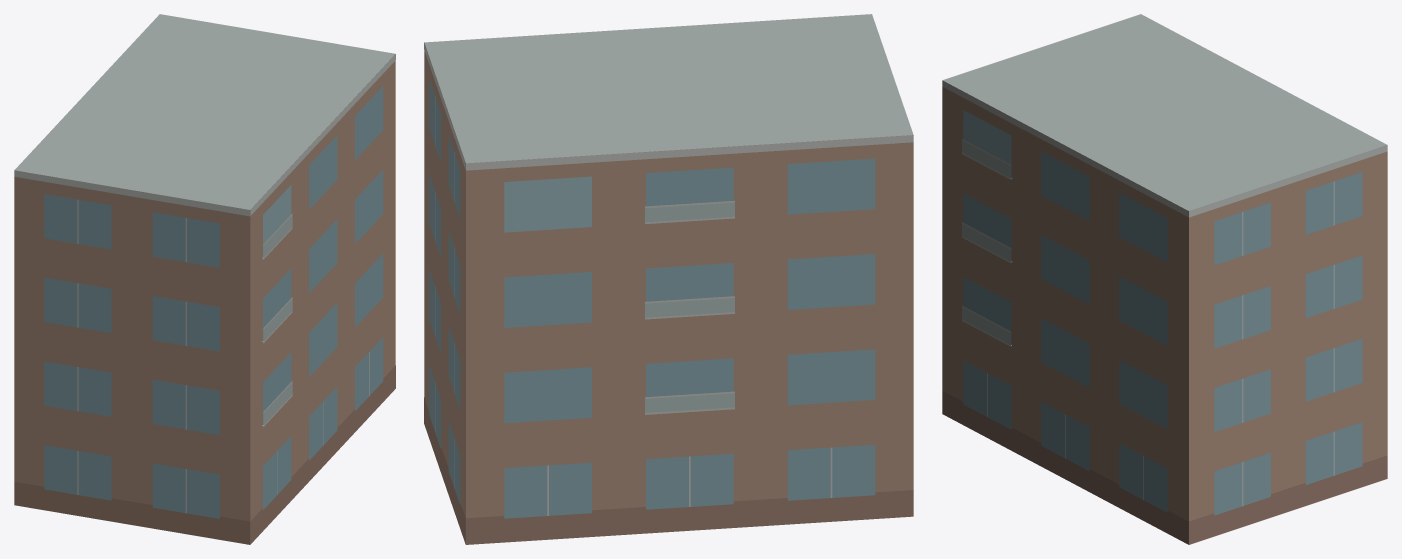
Rendered from survey-upis-32777927.glb.
The picture shows the model from 3 angles, left to right: view 1: azimuth 30°, elevation 25°; view 2: azimuth 150°, elevation 25°; view 3: azimuth 270°, elevation 25°; orthographic projection. The views are drawn at different scales.
Visible parts, largest first — view 1: survey-upis-32777927.tmp; view 2: survey-upis-32777927.tmp; view 3: survey-upis-32777927.tmp.
Part boxes in pixels (x1,y1,x2,y2): survey-upis-32777927.tmp: [14, 14, 395, 544]; survey-upis-32777927.tmp: [424, 14, 913, 544]; survey-upis-32777927.tmp: [942, 14, 1387, 544].
Bounding box in the file's own units: 16.23 × 12.8 × 15.49.
